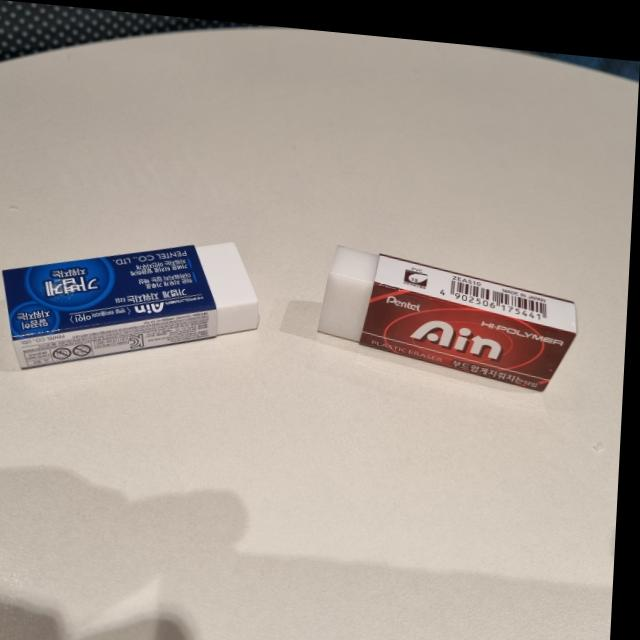blue: (4, 210, 272, 388)
red: (316, 232, 586, 390)
